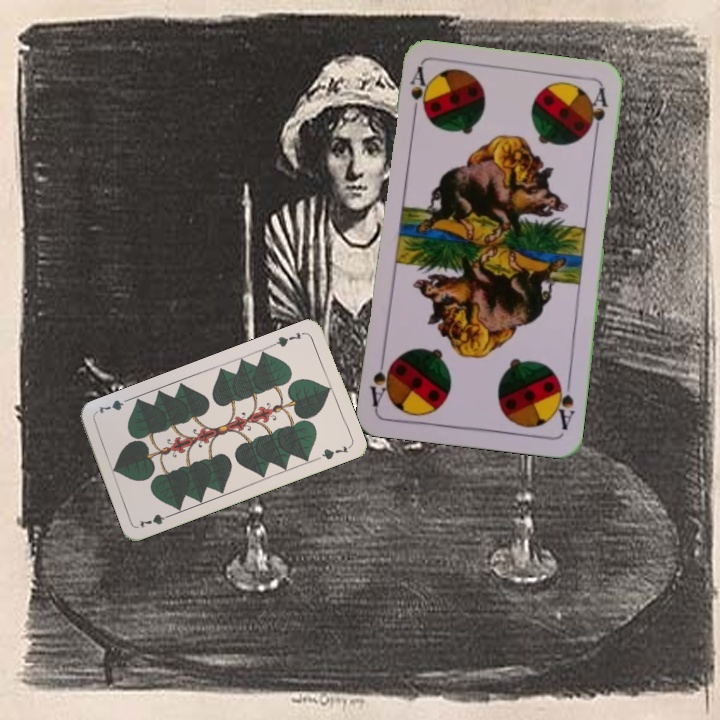G7: (269, 328, 308, 350), (135, 510, 175, 531)
SA: (549, 373, 578, 433), (406, 63, 430, 123)
